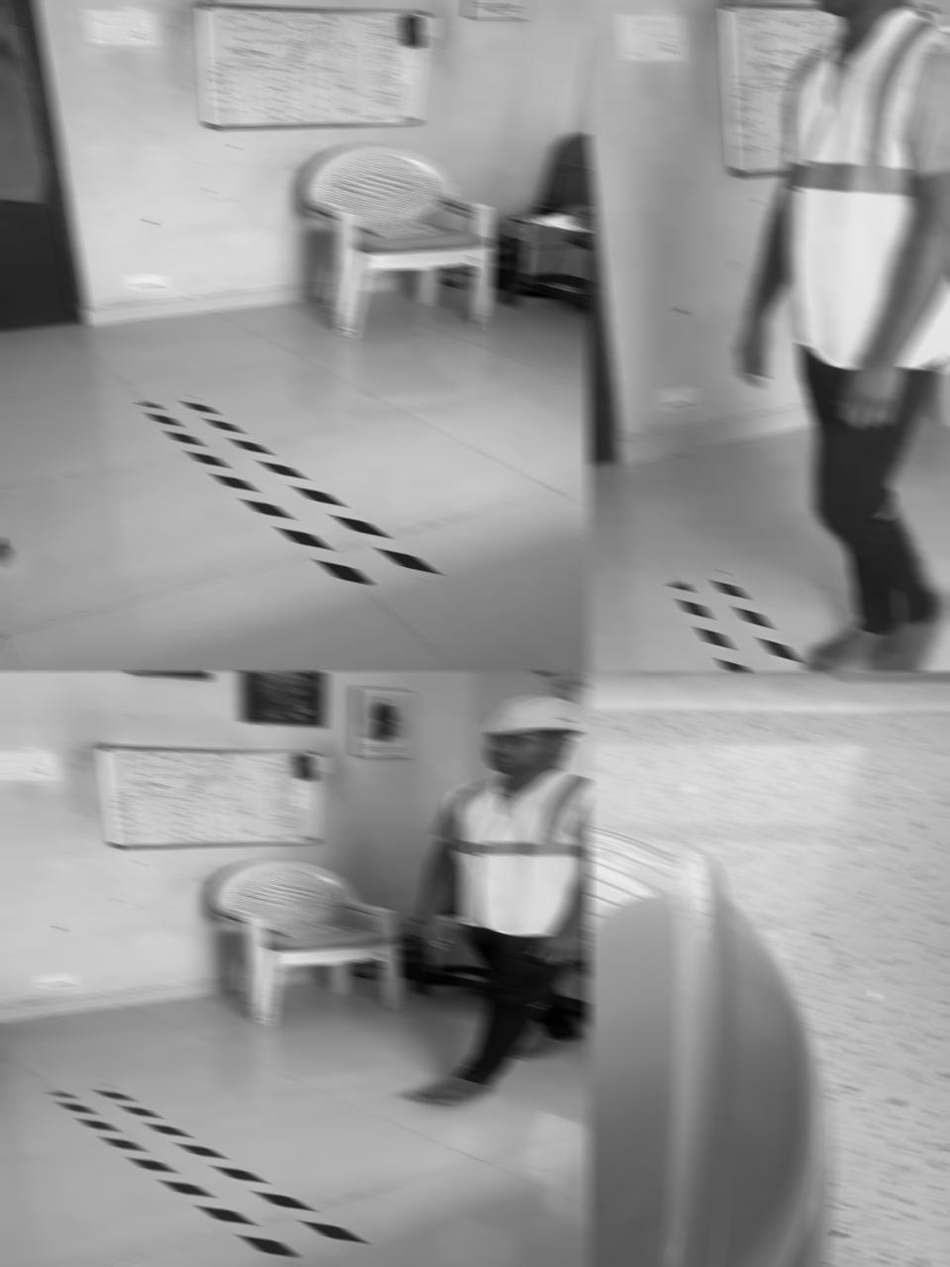BorderLine: (135, 395, 443, 588), (46, 1083, 369, 1262), (667, 566, 950, 671)
Helmet: (587, 792, 834, 1267), (474, 695, 586, 736)
Person: (734, 0, 950, 671), (416, 694, 591, 1103)
Vest: (783, 6, 950, 369), (446, 768, 591, 937)
